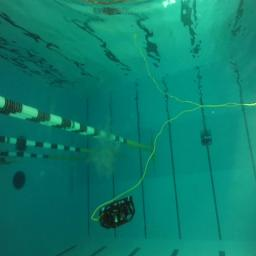Full: (201, 136, 212, 146)
Side: (97, 194, 135, 230)
